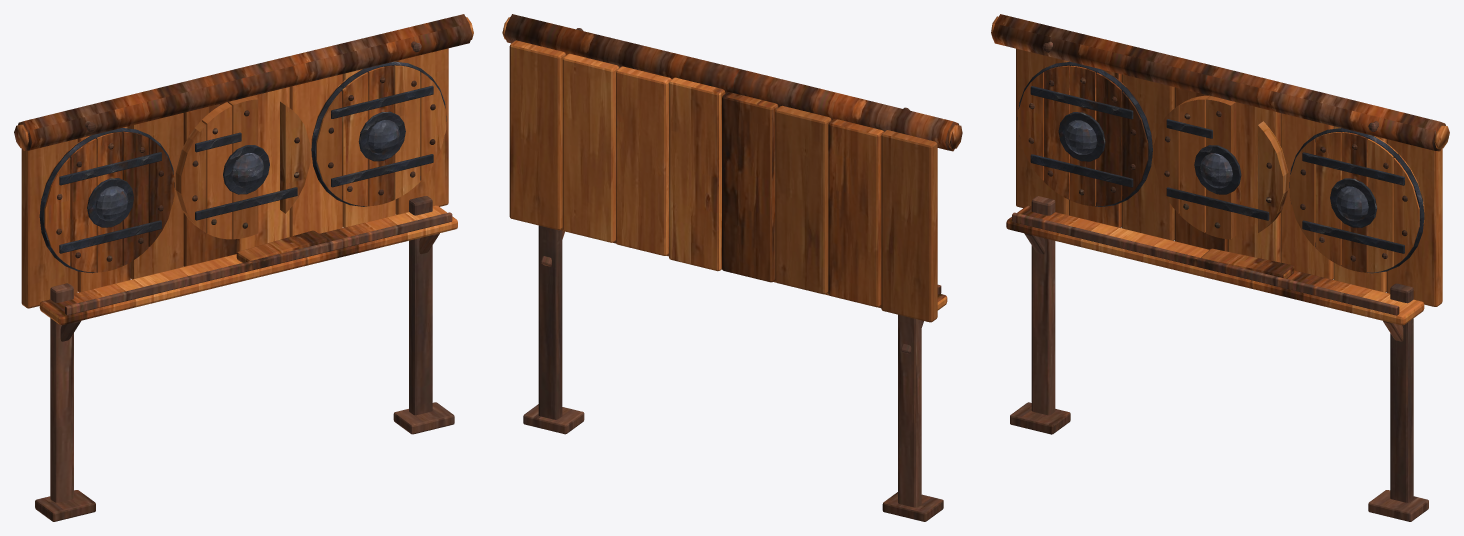
Rendered from mg_shield_wall.glb.
The picture shows the model from 3 angles, left to right: view 1: azimuth 30°, elevation 25°; view 2: azimuth 150°, elevation 25°; view 3: azimuth 330°, elevation 25°; orthographic projection.
Parts seen in each view (by area): view 1: model; view 2: model; view 3: model.
Part boxes in pixels (box(x1,y1,x2,y2)): model: box(14, 14, 473, 521); model: box(502, 14, 962, 521); model: box(991, 14, 1449, 521).
Bounding box in the file's own units: 1.64 × 1.41 × 0.181.
Materials: 11 (11 with a texture image).
